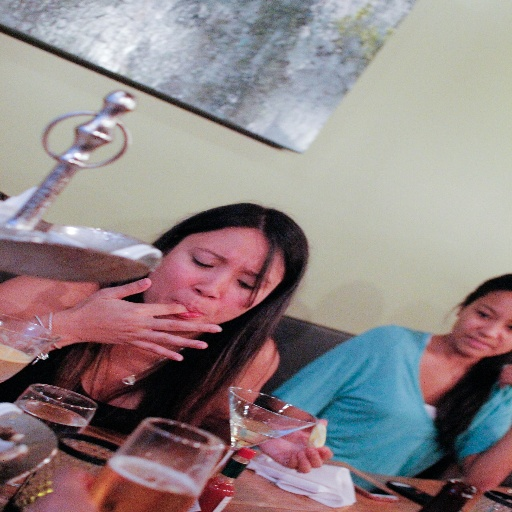hand: (52, 291, 229, 363), (255, 417, 335, 473)
